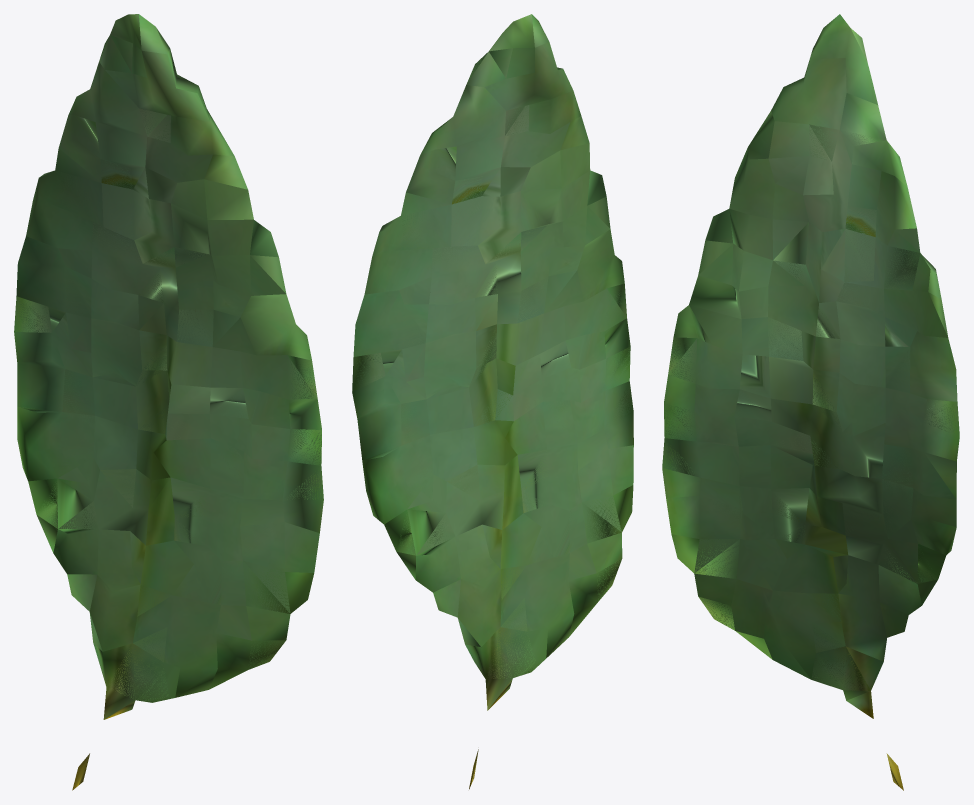
The model's file is eucalyptus-leaf.glb.
3 views of the same model, side by side, from view 1: azimuth 90°, elevation 25°; view 2: azimuth 150°, elevation 25°; view 3: azimuth 270°, elevation 25° (orthographic). The views are drawn at different scales.
Visible parts, largest first — view 1: eucalyptus-leaf; view 2: eucalyptus-leaf; view 3: eucalyptus-leaf.
Boxes of the visible parts, <box> form: eucalyptus-leaf: <box>14,14,323,790</box>; eucalyptus-leaf: <box>352,14,633,789</box>; eucalyptus-leaf: <box>662,14,959,790</box>.
Size of the model in its own units: 0.1856 by 0.9682 by 0.3429.
1 material, 1 textured.
